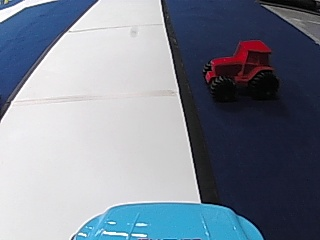tractor: (200, 37, 280, 103)
